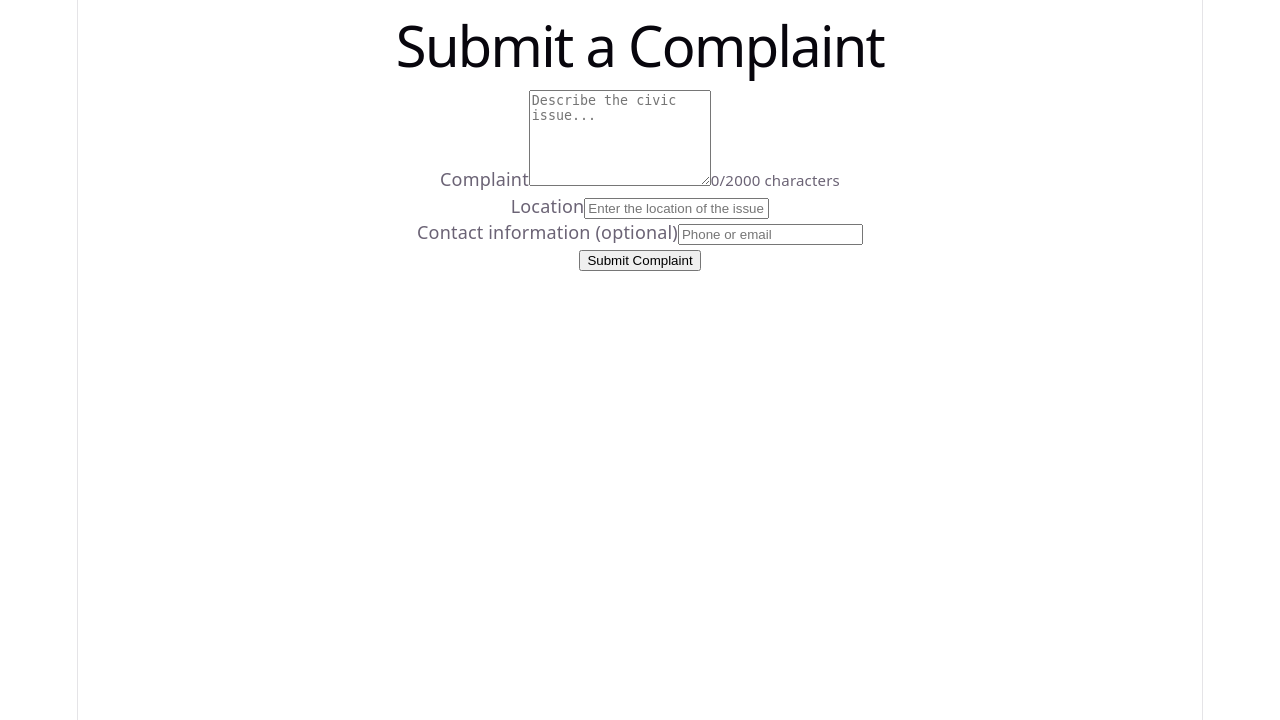
Test: CivicPulse components › shows validation error for a complaint that is too short
Type "Short" into the text box labelled "Complaint".
click(620, 138); type("Short")  # box [529, 90, 711, 186]
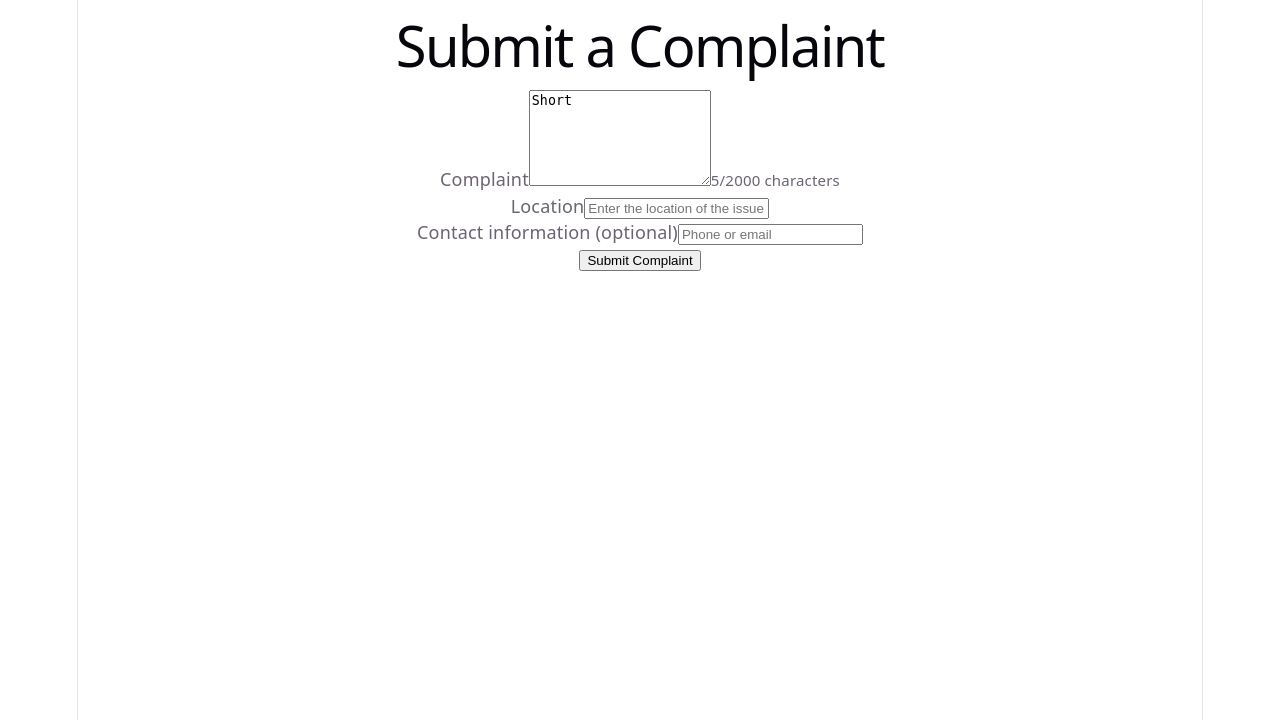
Type "Islamabad" into the field labelled "Location".
click(677, 209); type("Islamabad")  # box [584, 198, 769, 219]
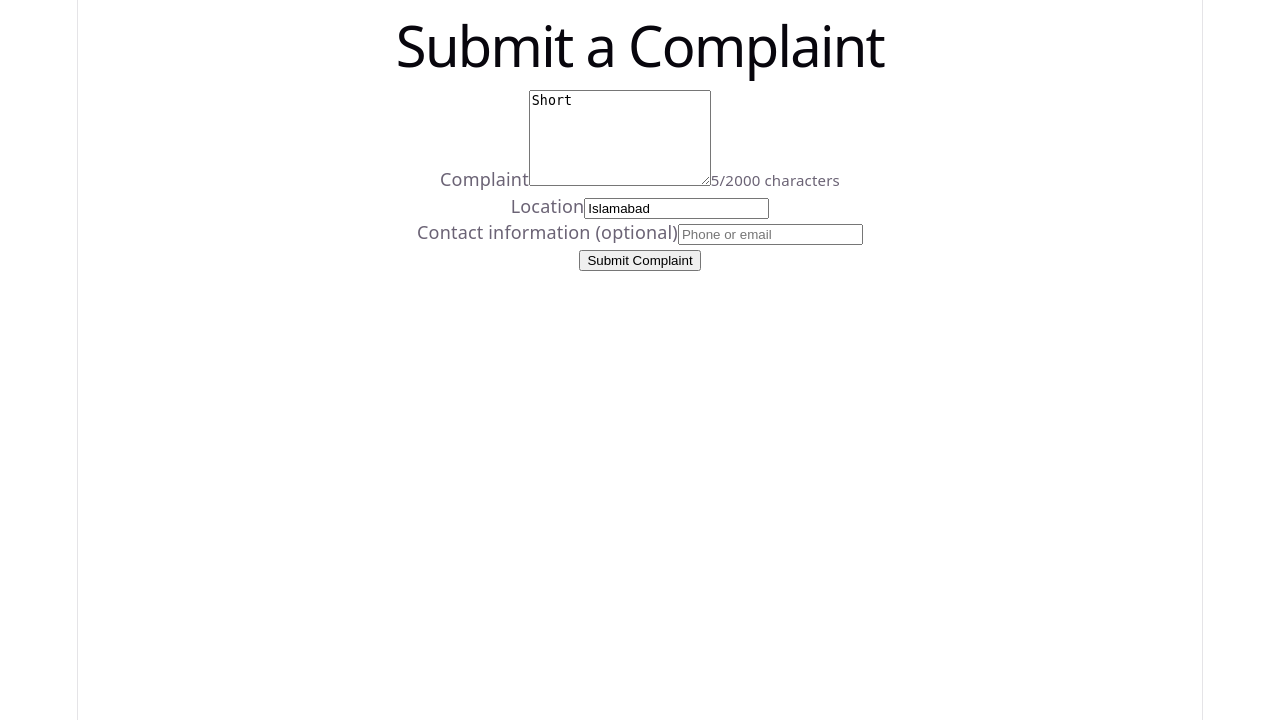
Click the button "Submit Complaint".
click(640, 261)  # box [579, 250, 701, 271]
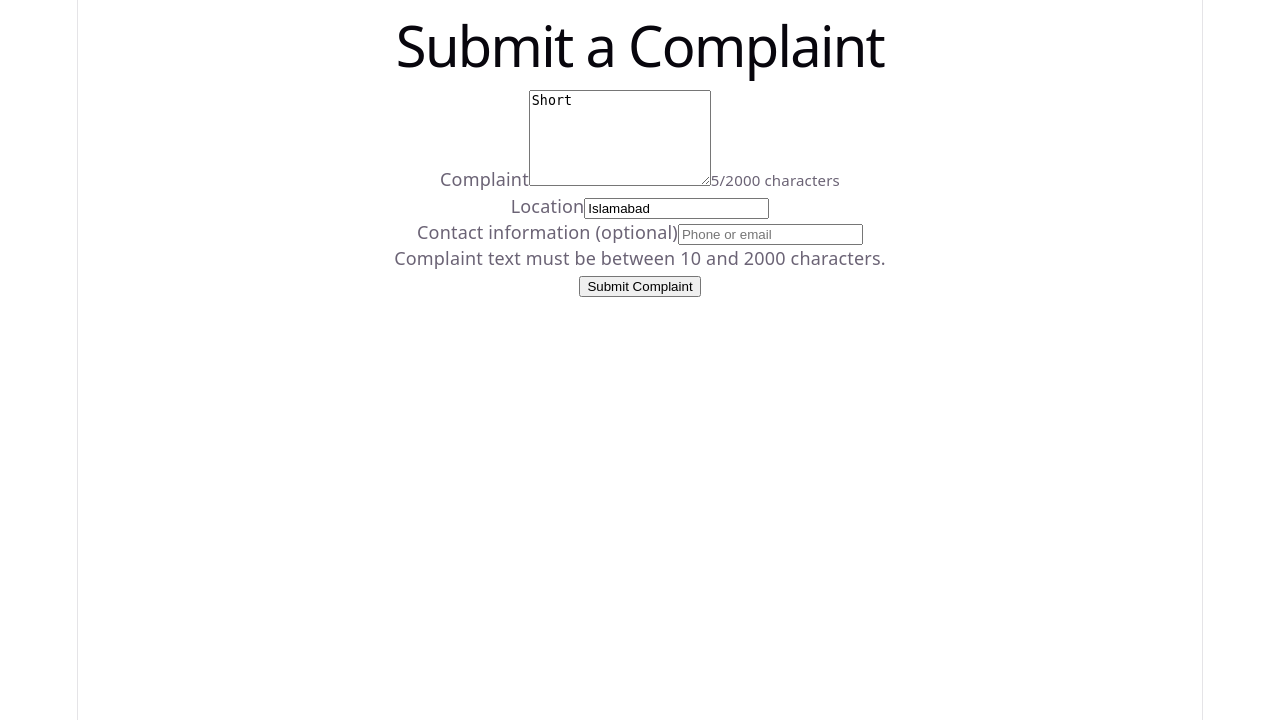
expect the message reads "Complaint text must be between 10 and 2000 characters.": met, box [394, 246, 886, 270]
